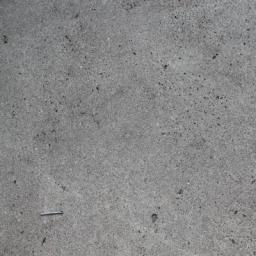FOD: (39, 208, 68, 220)
